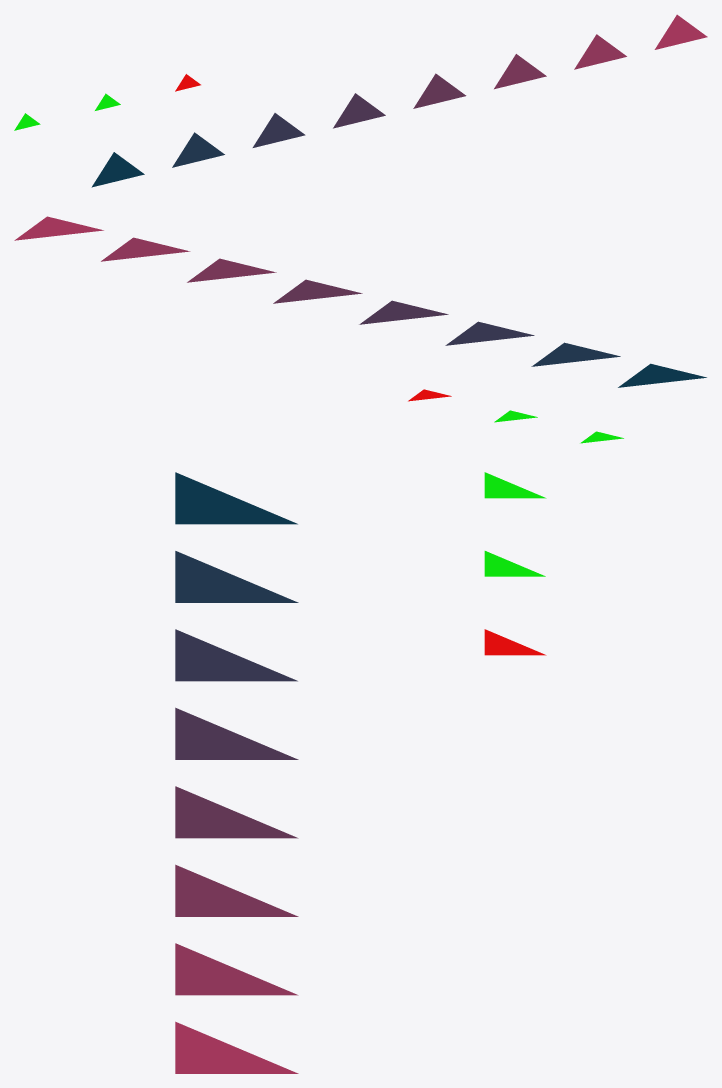
File: names.dae
3 renders of one model, top to bottom at view 1: azimuth 30°, elevation 25°; view 2: azimuth 150°, elevation 25°; view 3: azimuth 270°, elevation 25°, orthographic. The views are drawn at different scales.
Parts seen in each view (by area): view 1: IngeTrazo model; view 2: IngeTrazo model; view 3: IngeTrazo model.
Boxes of the visible parts, box(x1,y1,x2,y2) form: IngeTrazo model: box(14, 14, 707, 187); IngeTrazo model: box(14, 216, 706, 443); IngeTrazo model: box(175, 472, 546, 1073).
Bounding box in the file's own units: 23 × 6 × 0.
